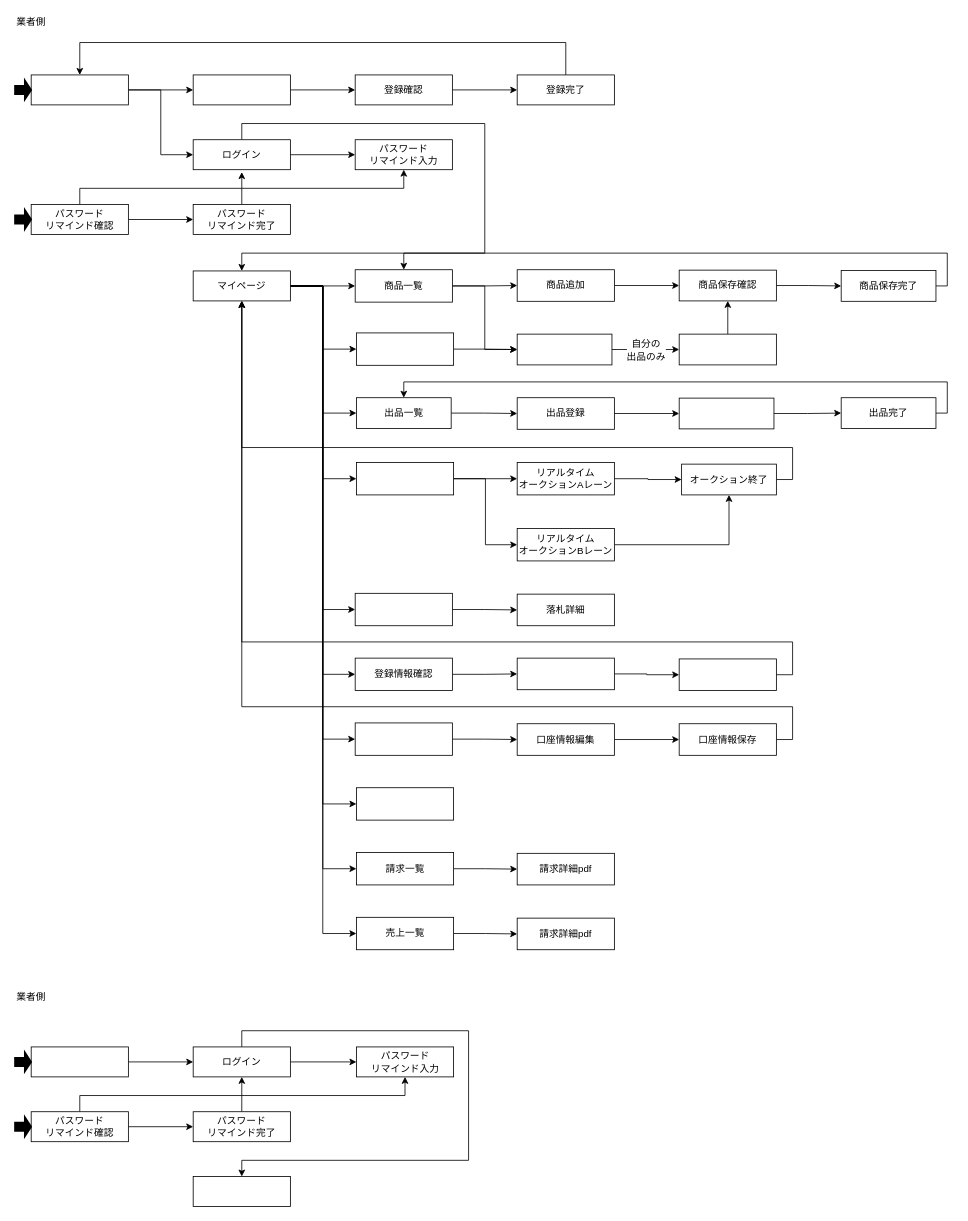
Some shapes in this 968 by 1221 pixel diagram are drawn without their labels. Here are the shapes that lost their labels. From the top down, the box of each, then its label:
(30, 74, 128, 105): TOP
(192, 74, 290, 105): 登録
(356, 332, 454, 365): 商品検索
(516, 333, 612, 365): 商品詳細
(678, 333, 776, 365): 商品編集
(678, 397, 774, 429): 出品確認
(356, 462, 454, 495): オークション入口
(354, 593, 452, 626): 落札一覧
(516, 657, 614, 690): 登録情報編集
(678, 658, 776, 691): 登録情報保存
(354, 722, 452, 755): 口座情報確認
(356, 787, 454, 820): 受取予約確認
(30, 1046, 128, 1077): 管理TOP
(192, 1176, 290, 1206): 管理メニュー
